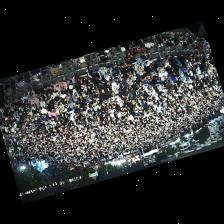person: (85, 60, 102, 83), (155, 59, 167, 79), (177, 57, 189, 75), (120, 63, 133, 77), (151, 69, 161, 87), (134, 68, 146, 83), (74, 76, 87, 89), (54, 80, 67, 93), (41, 85, 53, 98), (100, 66, 112, 78), (144, 59, 155, 72), (86, 80, 96, 94), (111, 76, 119, 93), (169, 56, 179, 69), (134, 61, 144, 74), (50, 97, 61, 108), (170, 71, 180, 83), (186, 57, 195, 70), (52, 87, 61, 100), (125, 86, 134, 98), (162, 57, 171, 69), (103, 74, 112, 86), (13, 98, 22, 110), (97, 80, 105, 93), (123, 74, 133, 84), (122, 78, 131, 89), (112, 64, 119, 78), (30, 96, 38, 108), (27, 89, 36, 99), (99, 93, 107, 104), (192, 53, 200, 63), (65, 87, 72, 98), (8, 99, 15, 110), (179, 68, 186, 79), (117, 69, 122, 84), (72, 88, 78, 100), (40, 100, 48, 109), (104, 86, 113, 94), (36, 91, 45, 99), (45, 95, 53, 103), (67, 78, 74, 87), (122, 42, 131, 49), (82, 84, 87, 96), (200, 52, 207, 60), (41, 108, 47, 117), (37, 102, 41, 111)
